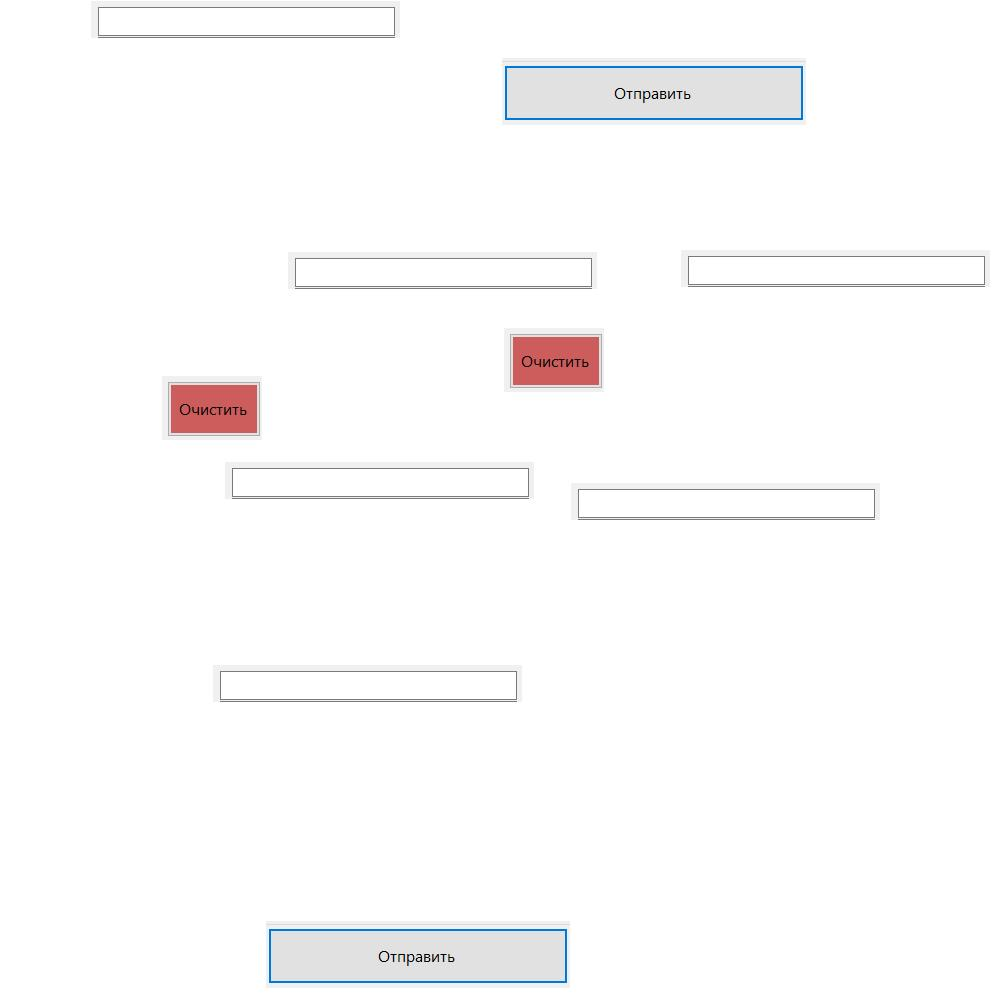Button: (266, 921, 570, 988), (502, 58, 806, 125), (162, 376, 262, 440), (504, 328, 604, 392)
EditText-: (681, 250, 990, 287), (571, 483, 880, 520), (91, 1, 400, 38), (288, 252, 597, 289), (213, 665, 522, 702), (225, 462, 534, 499)
